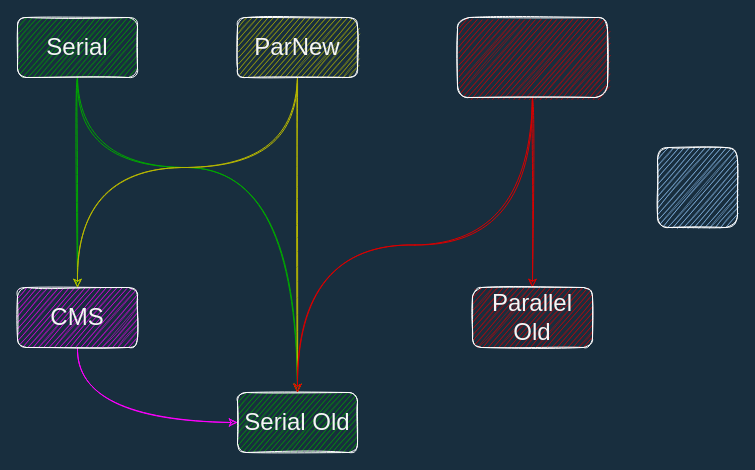
Image size: 755x470. Some labels were removed from this diagram. The box of each missing label's shape, as (x1, y1, x2, y2) in pixels:
G1: (656, 146, 738, 228)
Parallel Scavenge: (456, 16, 608, 98)
